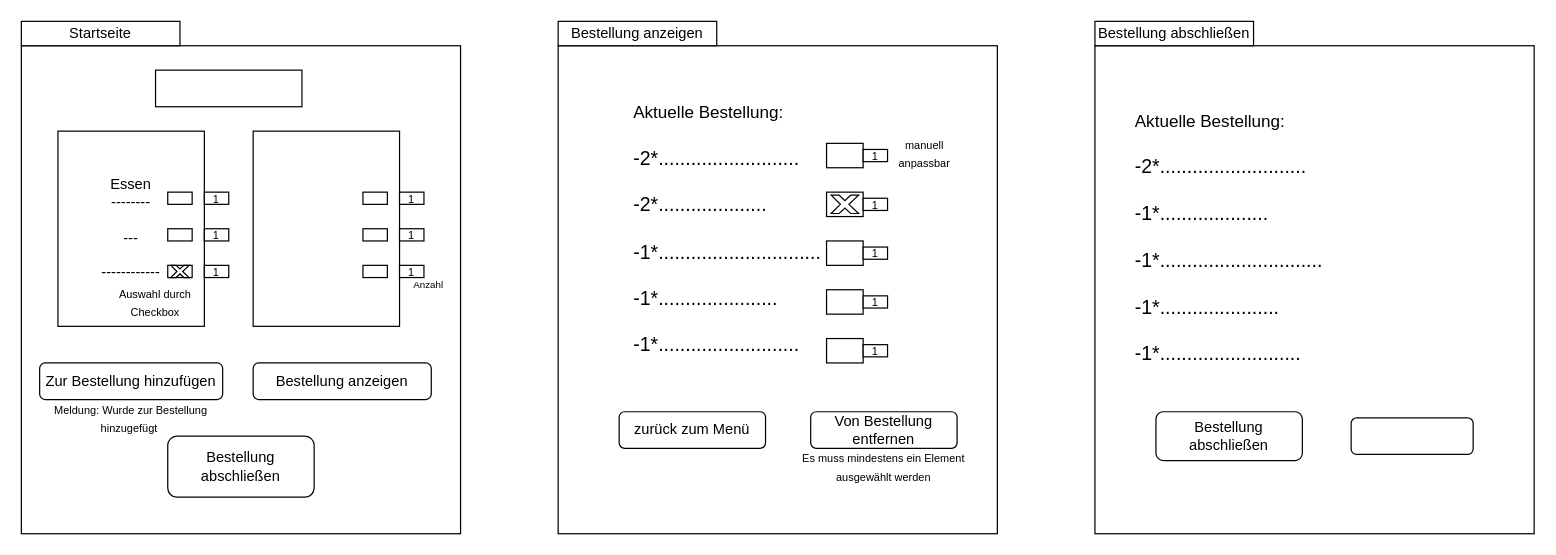
Image size: 1556x555. Some labels were removed from this diagram. The shapes that lost their labels are listed below. From the top down, each one's centre as x and y in pixels, then its label:
At point 228,88: "Menü / Speisekarte".
At point 326,228: "Getränke ---- ------- ----------".
At point 1411,435: "Zurück zu Menü".
